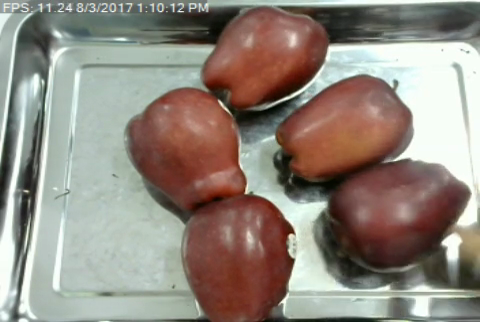Apple: (324, 157, 474, 273), (121, 84, 251, 215), (270, 72, 418, 185), (177, 191, 299, 322), (200, 1, 331, 115)
